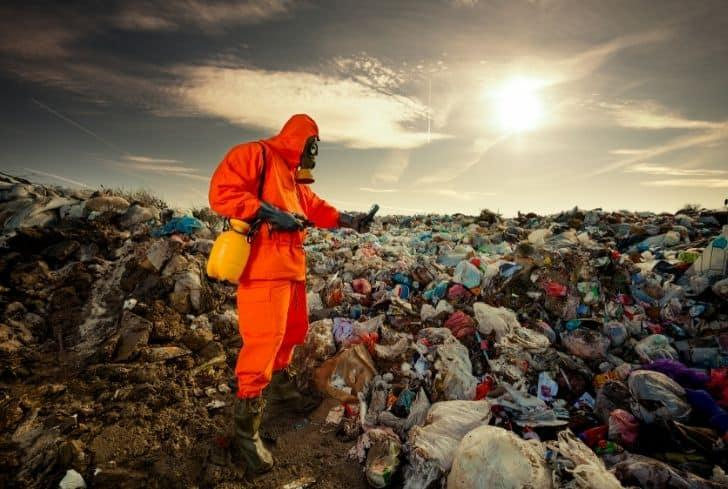garbage: (3, 184, 728, 489)
